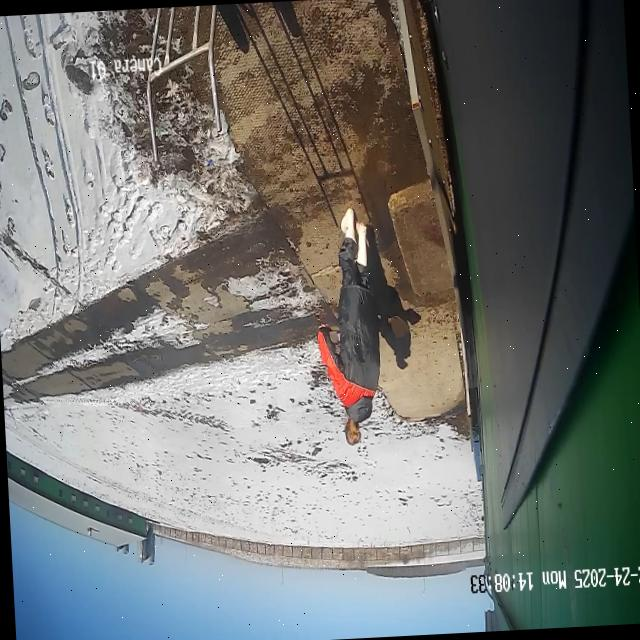Red uniform: (312, 233, 386, 424)
